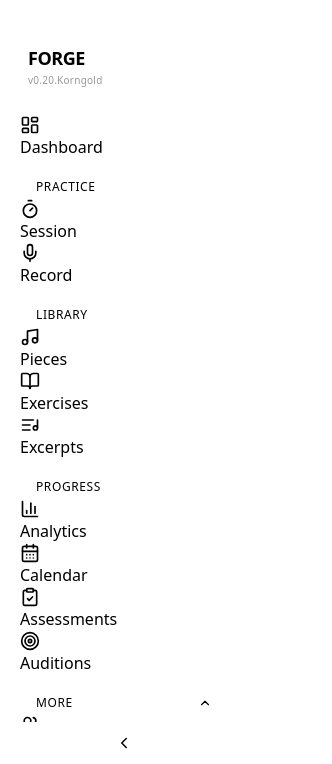
Test: Sidebar › toggles collapse on desktop
The image size is (332, 764).
Click the button named "Collapse sidebar" at (124, 743), box [12,722,236,763]
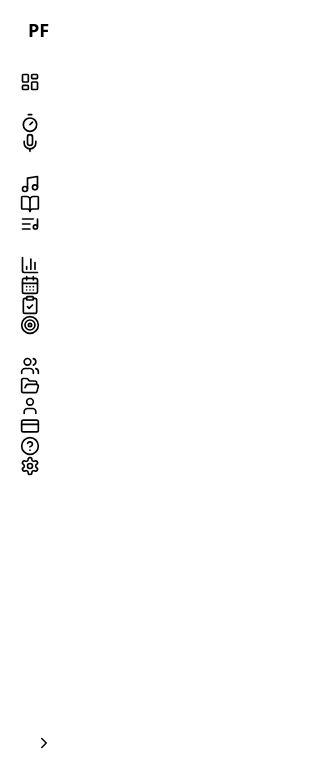
Now the text "PF" is shown, box [28,16,49,44]
Now the text "Dashboard" is gone
